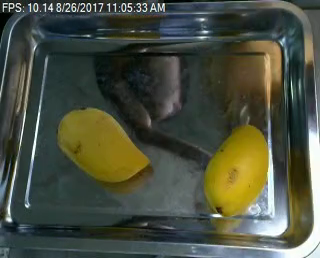Mango: (55, 105, 158, 190), (201, 121, 272, 216)
